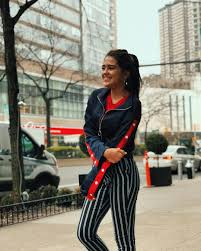person: (88, 56, 132, 135)
